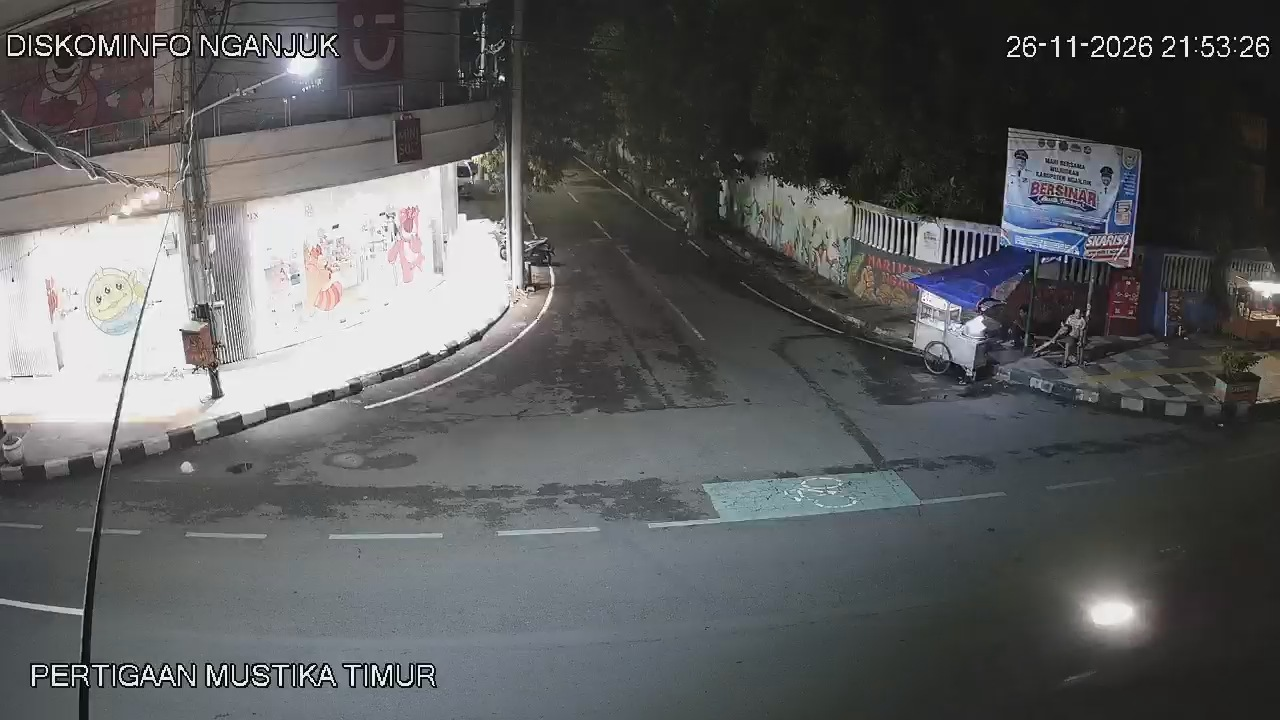Gerobak: (904, 269, 1006, 381)
